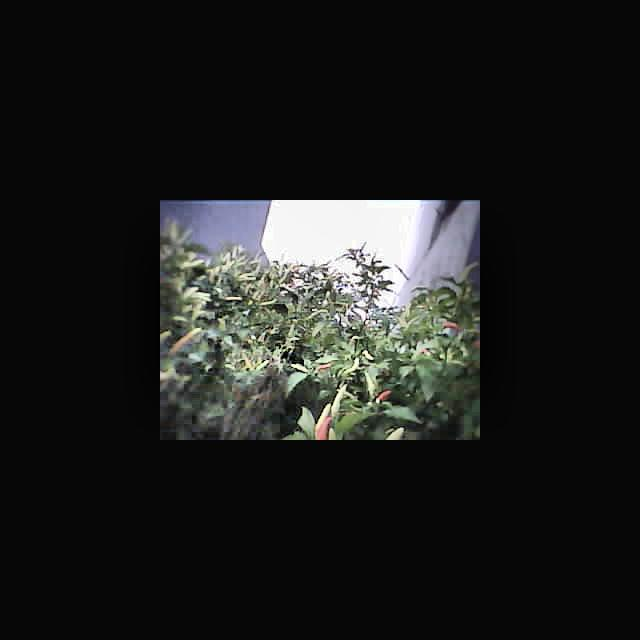Cabai: (170, 327, 200, 353), (319, 420, 339, 440), (375, 386, 397, 404), (315, 363, 336, 373)
